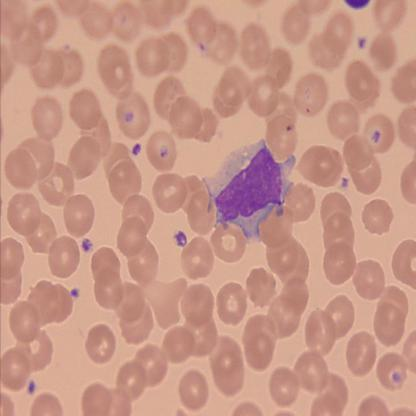Monocyte: (199, 135, 299, 248)
